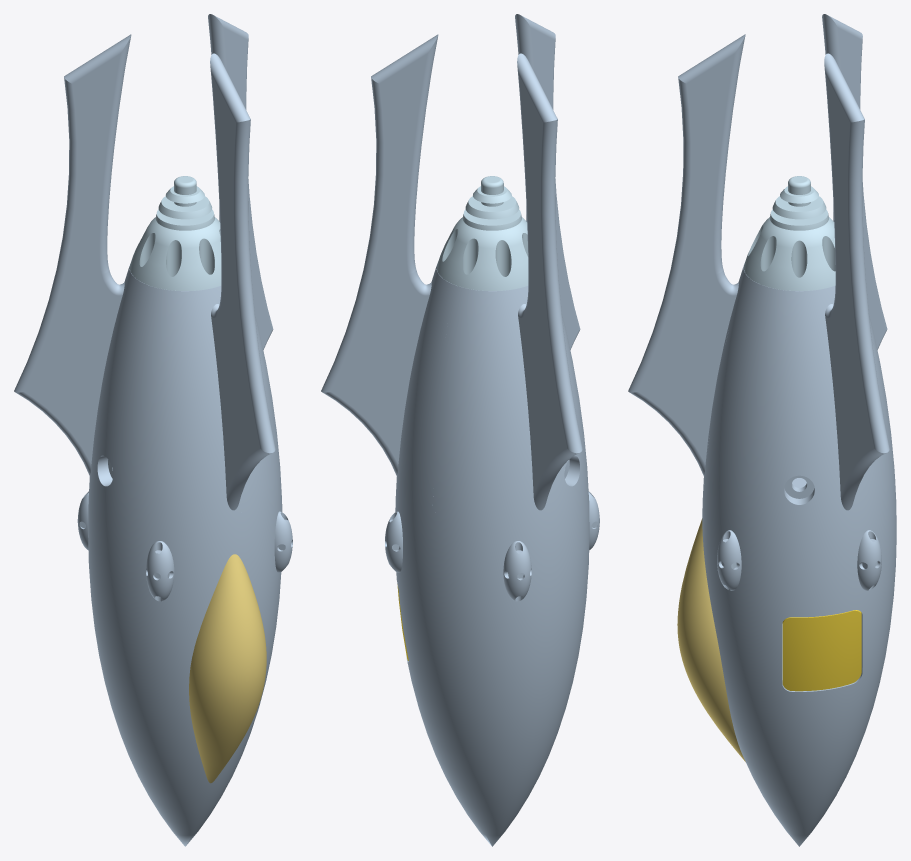
The model's file is stardust.gltf.
3 views of the same model, side by side, from view 1: azimuth 30°, elevation 25°; view 2: azimuth 150°, elevation 25°; view 3: azimuth 270°, elevation 25° (orthographic).
Parts seen in each view (by area): view 1: mesh81_meshnode_81, mesh137_meshnode_137, mesh17_meshnode_17, mesh109_meshnode_109, mesh185_meshnode_185, mesh101_meshnode_101, mesh42_meshnode_42, mesh143_meshnode_143, mesh196_meshnode_196, mesh147_meshnode_147, mesh96_meshnode_96, mesh50_meshnode_50 (+6 smaller); view 2: mesh81_meshnode_81, mesh185_meshnode_185, mesh193_meshnode_193, mesh136_meshnode_136, mesh142_meshnode_142, mesh42_meshnode_42, mesh192_meshnode_192, mesh109_meshnode_109, mesh188_meshnode_188, mesh143_meshnode_143, mesh50_meshnode_50, mesh110_meshnode_110 (+5 smaller); view 3: mesh185_meshnode_185, mesh104_meshnode_104, mesh196_meshnode_196, mesh17_meshnode_17, mesh280_meshnode_280, mesh191_meshnode_191, mesh42_meshnode_42, mesh96_meshnode_96, mesh136_meshnode_136, mesh98_meshnode_98, mesh192_meshnode_192, mesh50_meshnode_50 (+7 smaller).
Part boxes in pixels (box(x1,y1,x2,y2)): mesh81_meshnode_81: box(88, 266, 244, 846); mesh137_meshnode_137: box(24, 54, 122, 463); mesh17_meshnode_17: box(189, 554, 266, 783); mesh109_meshnode_109: box(211, 75, 259, 494); mesh185_meshnode_185: box(186, 313, 282, 845); mesh101_meshnode_101: box(233, 120, 271, 453); mesh42_meshnode_42: box(129, 231, 221, 290); mesh143_meshnode_143: box(14, 78, 76, 392); mesh196_meshnode_196: box(223, 28, 271, 348); mesh147_meshnode_147: box(99, 37, 130, 273); mesh96_meshnode_96: box(244, 119, 275, 452); mesh50_meshnode_50: box(145, 217, 220, 248); mesh81_meshnode_81: box(432, 284, 589, 846); mesh185_meshnode_185: box(395, 266, 491, 845); mesh193_meshnode_193: box(331, 54, 429, 463); mesh136_meshnode_136: box(518, 75, 566, 494); mesh142_meshnode_142: box(540, 120, 578, 453); mesh42_meshnode_42: box(436, 230, 528, 290); mesh192_meshnode_192: box(321, 78, 383, 392); mesh109_meshnode_109: box(530, 28, 578, 348); mesh188_meshnode_188: box(406, 37, 437, 273); mesh143_meshnode_143: box(551, 119, 582, 452); mesh50_meshnode_50: box(452, 217, 527, 248); mesh110_meshnode_110: box(503, 541, 531, 600); mesh185_meshnode_185: box(702, 274, 896, 846); mesh104_meshnode_104: box(638, 53, 736, 463); mesh196_meshnode_196: box(825, 76, 874, 494); mesh17_meshnode_17: box(677, 518, 745, 761); mesh280_meshnode_280: box(782, 610, 861, 691); mesh191_meshnode_191: box(847, 120, 885, 453); mesh42_meshnode_42: box(744, 235, 835, 291); mesh96_meshnode_96: box(628, 78, 691, 392); mesh136_meshnode_136: box(837, 27, 885, 348); mesh98_meshnode_98: box(713, 36, 745, 274); mesh192_meshnode_192: box(858, 119, 889, 452); mesh50_meshnode_50: box(760, 217, 834, 247).
Bounding box in the file's own units: 0.066 × 0.1985 × 0.0594.
